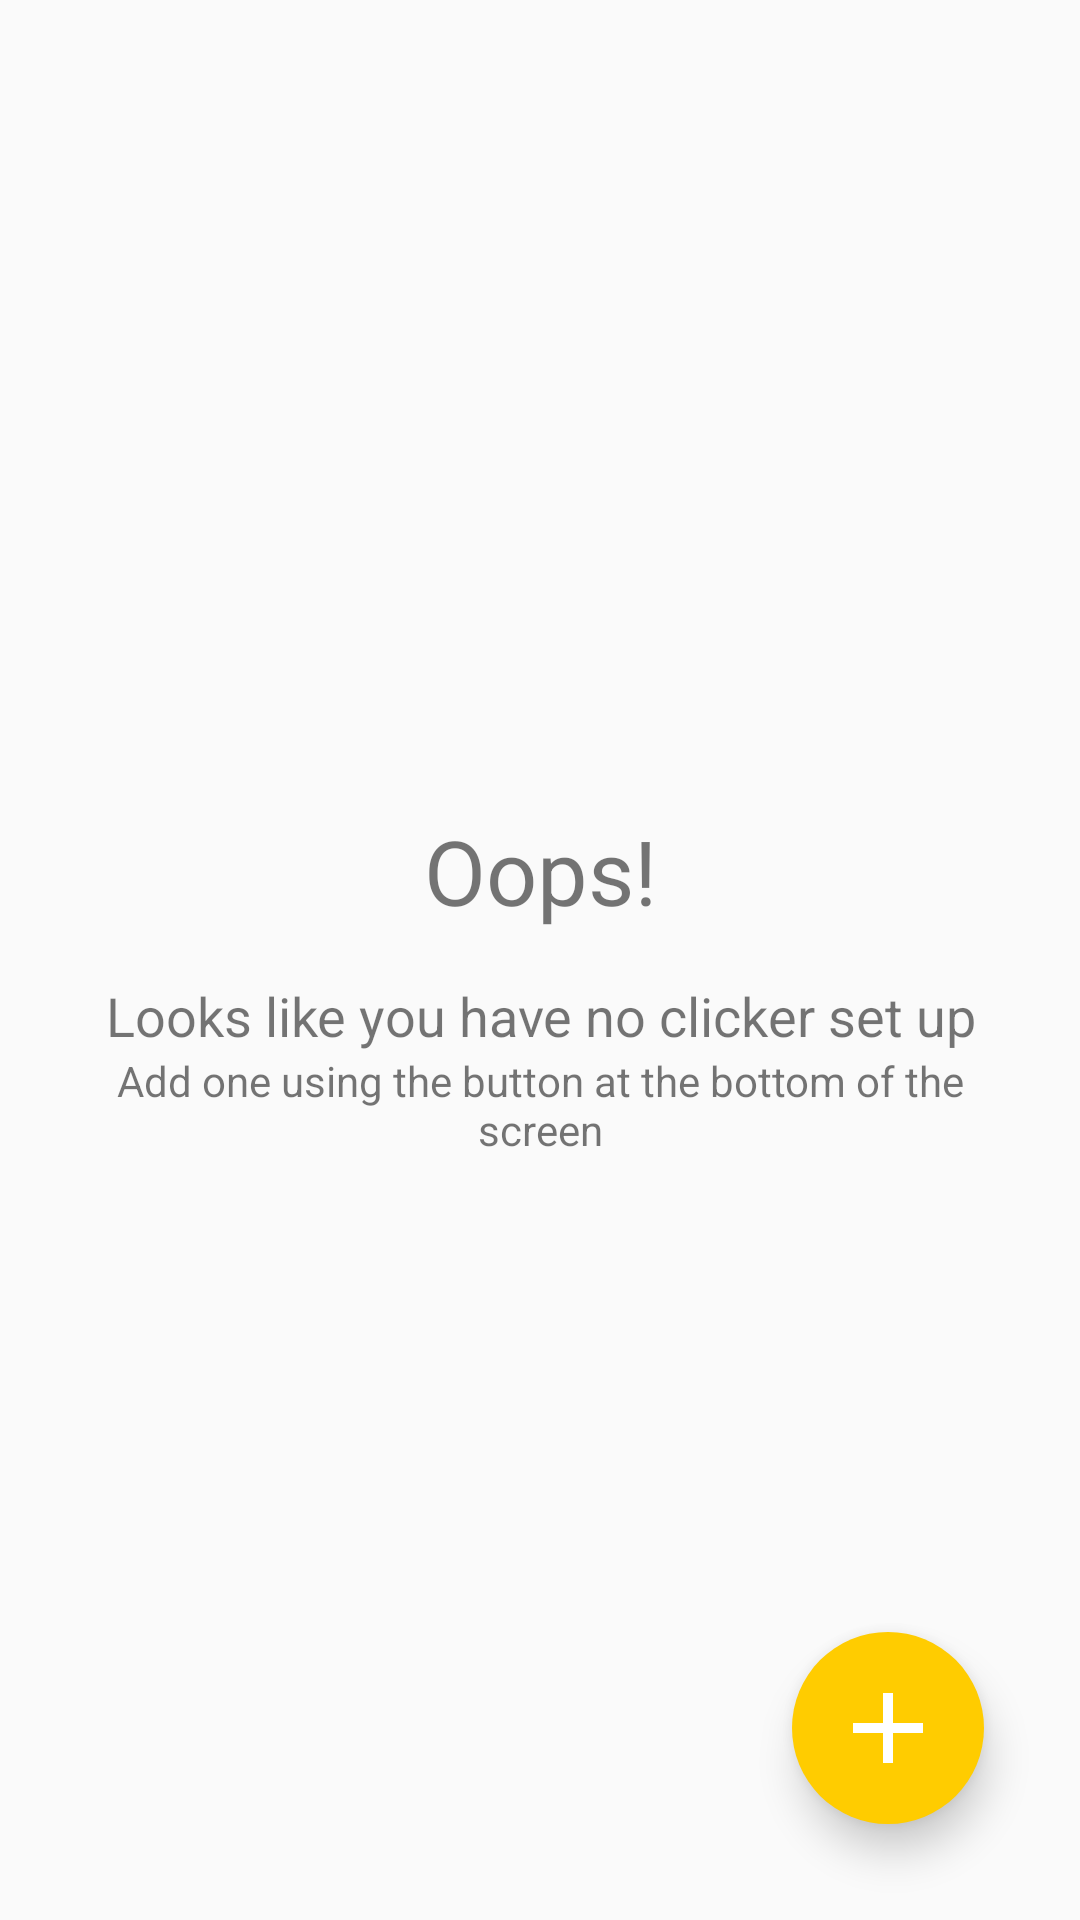

Named icons in this screenshot (1080x1920) and their centers, [x,y]:
plus: [888,1728]
